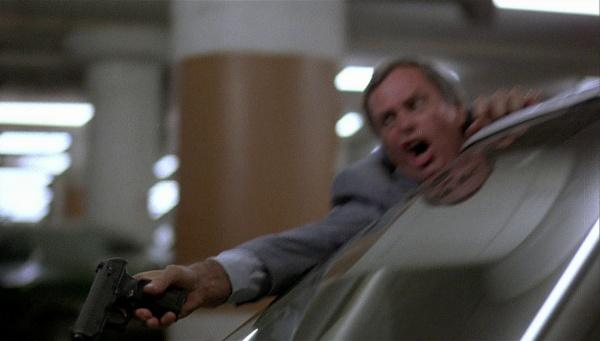Gun: (72, 258, 187, 340)
